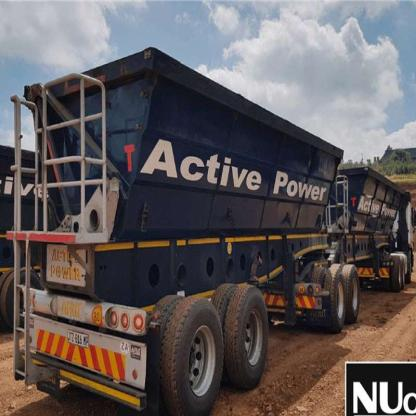dump_truck: (4, 35, 416, 411)
